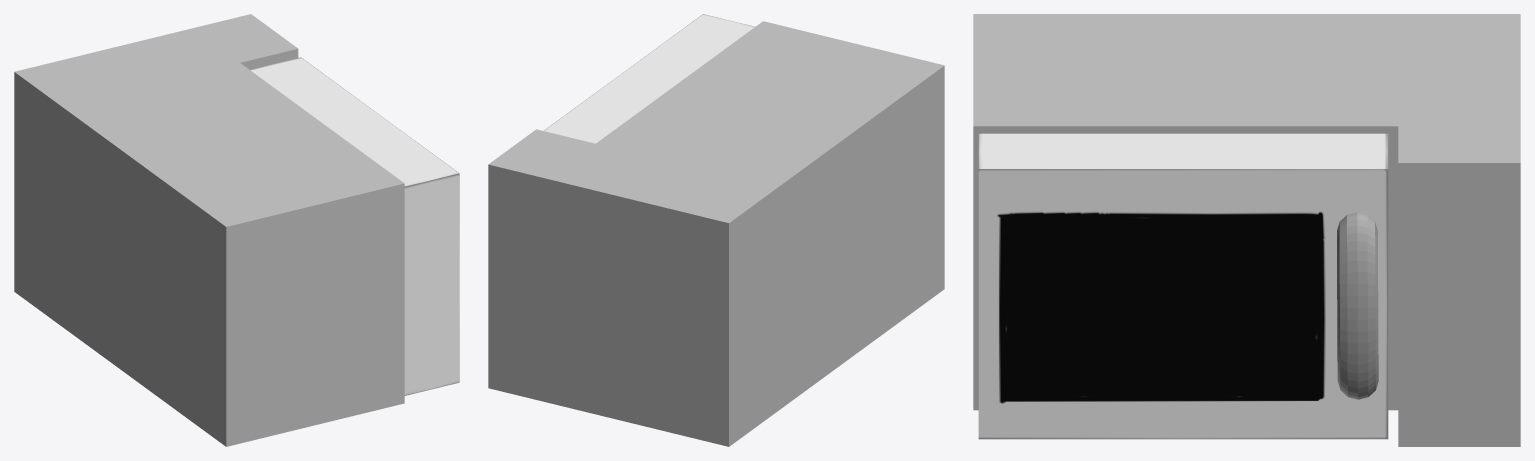
Rendered from denshirenzi.fbx.
3 renders of one model, left to right at view 1: azimuth 30°, elevation 25°; view 2: azimuth 150°, elevation 25°; view 3: azimuth 270°, elevation 25°, orthographic. The views are drawn at different scales.
Visible parts, largest first — view 1: Cube, Torus; view 2: Cube, Torus; view 3: Torus, Cube.
Part boxes in pixels (x1,y1,x2,y2): Cube: [14, 14, 404, 446]; Torus: [250, 57, 459, 395]; Cube: [488, 21, 944, 446]; Torus: [544, 14, 754, 143]; Torus: [978, 133, 1388, 439]; Cube: [973, 14, 1520, 446].
Size of the model in its own units: 141 by 114 by 200.
